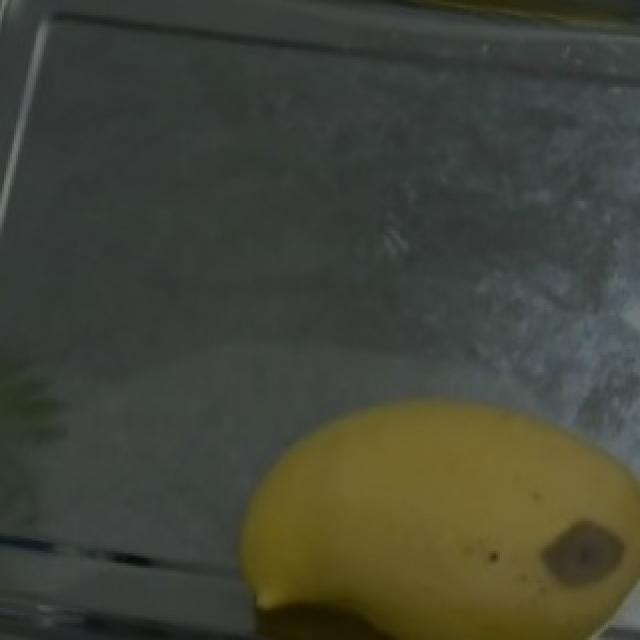fruit: (204, 350, 640, 640)
